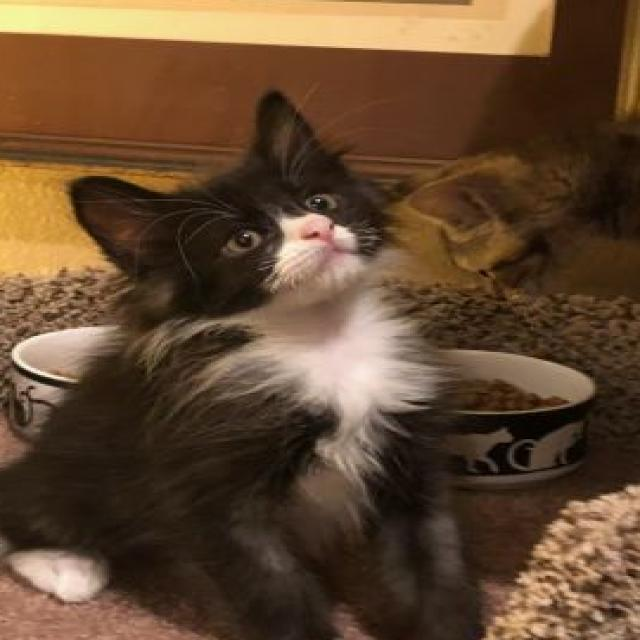Tuxedo: (0, 83, 495, 640)
